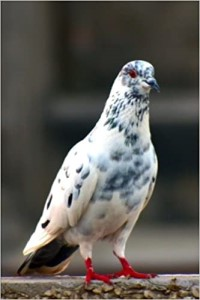pigeon: (17, 56, 162, 292)
